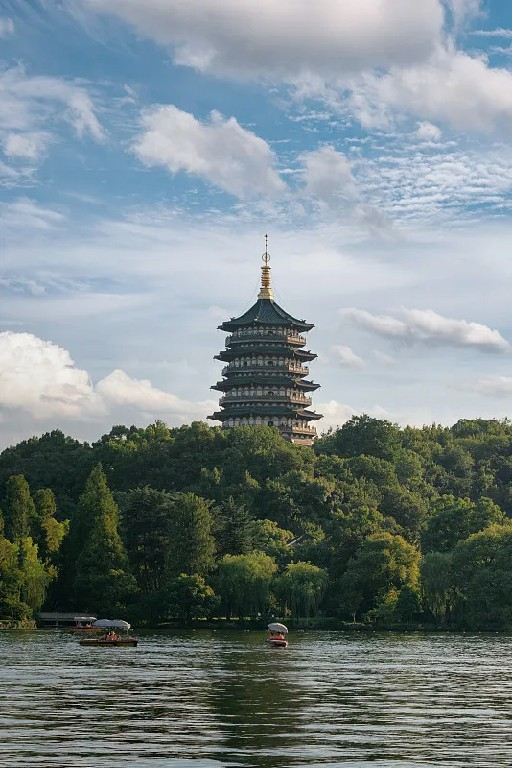Leifeng: (206, 232, 324, 456)
